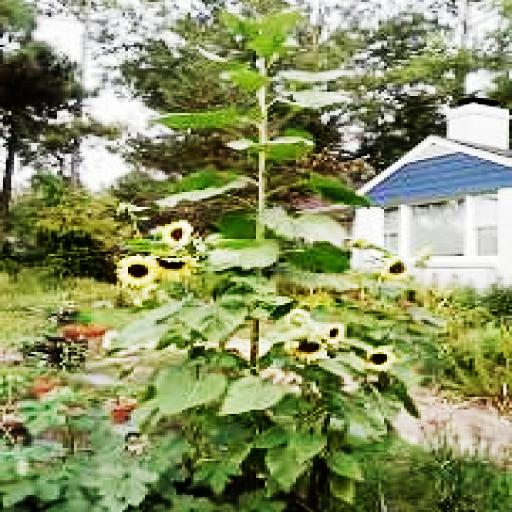sunflower: (111, 256, 159, 284), (361, 346, 393, 369), (381, 254, 410, 279), (162, 220, 188, 245), (288, 337, 324, 354), (324, 320, 344, 341)
